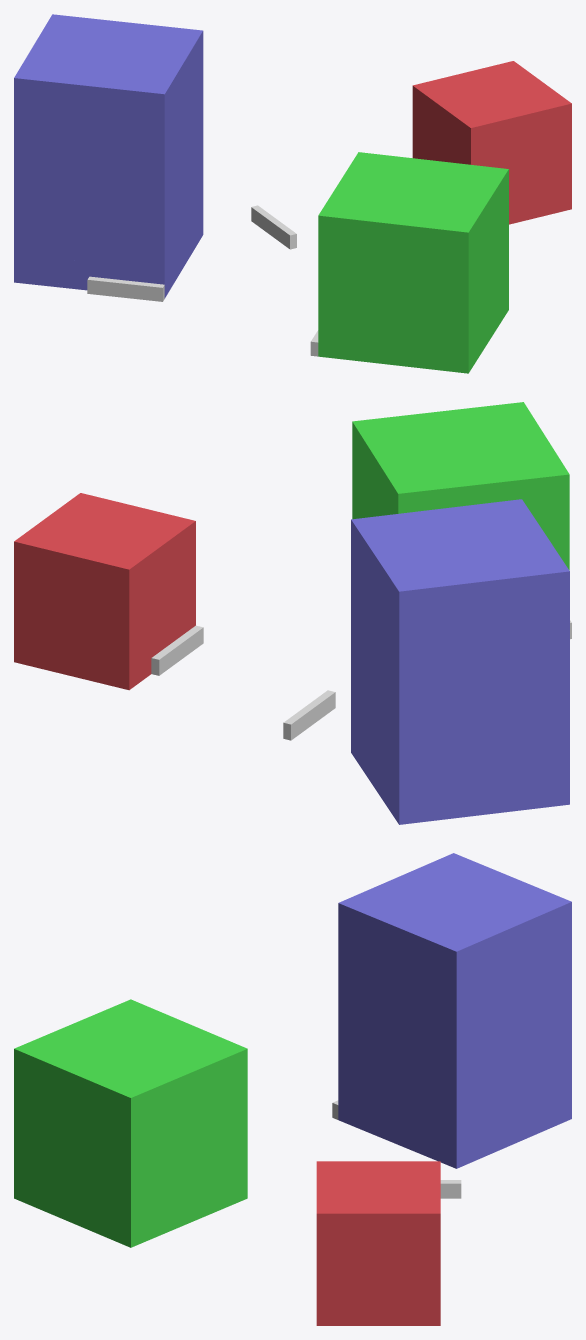
Rendered from cubes.glb.
3 renders of one model, top to bottom at view 1: azimuth 30°, elevation 25°; view 2: azimuth 150°, elevation 25°; view 3: azimuth 270°, elevation 25°, orthographic. The views are drawn at different scales.
Visible parts, largest first — view 1: BlueTall, GreenCube, Cube, cube-blue, cube-green, pos_BlueTall, Original; view 2: BlueTall, Cube, GreenCube, red, Original, pos_Cube; view 3: BlueTall, GreenCube, Cube, red, cube-blue.
Boxes of the visible parts, x1=… form: BlueTall: x1=14, y1=14, x2=203, y2=298; GreenCube: x1=318, y1=152, x2=508, y2=373; Cube: x1=412, y1=61, x2=571, y2=224; cube-blue: x1=51, y1=176, x2=193, y2=290; cube-green: x1=320, y1=279, x2=427, y2=368; pos_BlueTall: x1=87, y1=276, x2=164, y2=301; Original: x1=251, y1=205, x2=296, y2=249; BlueTall: x1=351, y1=499, x2=569, y2=824; Cube: x1=14, y1=493, x2=195, y2=689; GreenCube: x1=352, y1=402, x2=569, y2=570; red: x1=14, y1=581, x2=195, y2=689; Original: x1=283, y1=690, x2=335, y2=740; pos_Cube: x1=151, y1=625, x2=203, y2=675; BlueTall: x1=338, y1=853, x2=571, y2=1168; GreenCube: x1=14, y1=999, x2=247, y2=1247; Cube: x1=316, y1=1161, x2=440, y2=1325; red: x1=317, y1=1296, x2=440, y2=1325; cube-blue: x1=364, y1=1024, x2=426, y2=1156.
Bounding box in the file's own units: 73.24 × 29 × 67.52.
